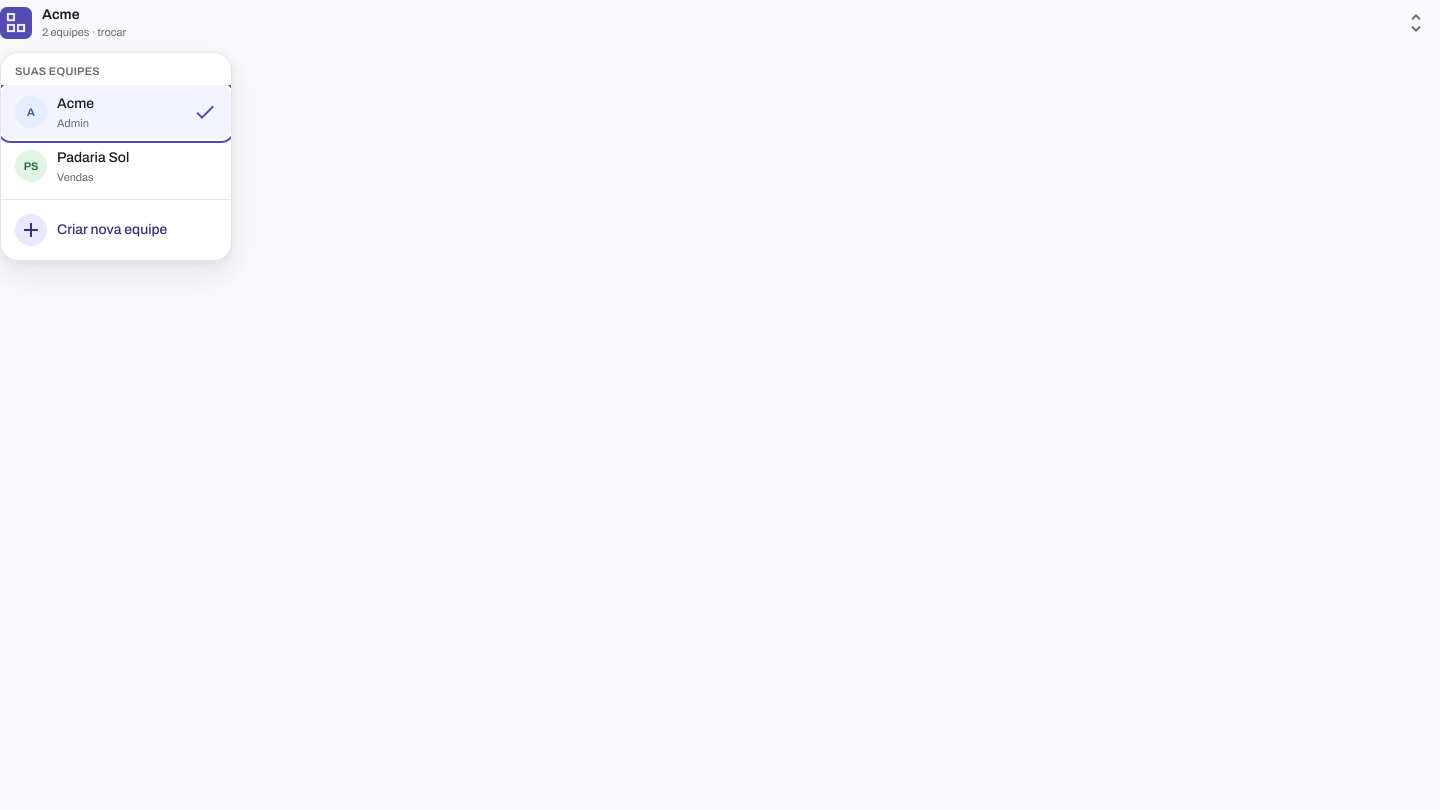
Test: SeletorDeEquipe › cria uma equipe nova pelo menu
The image size is (1440, 810).
Earlier steps of the test are not shown.
Click the menu item "Criar nova equipe" at (116, 230), box [1,206,231,254]
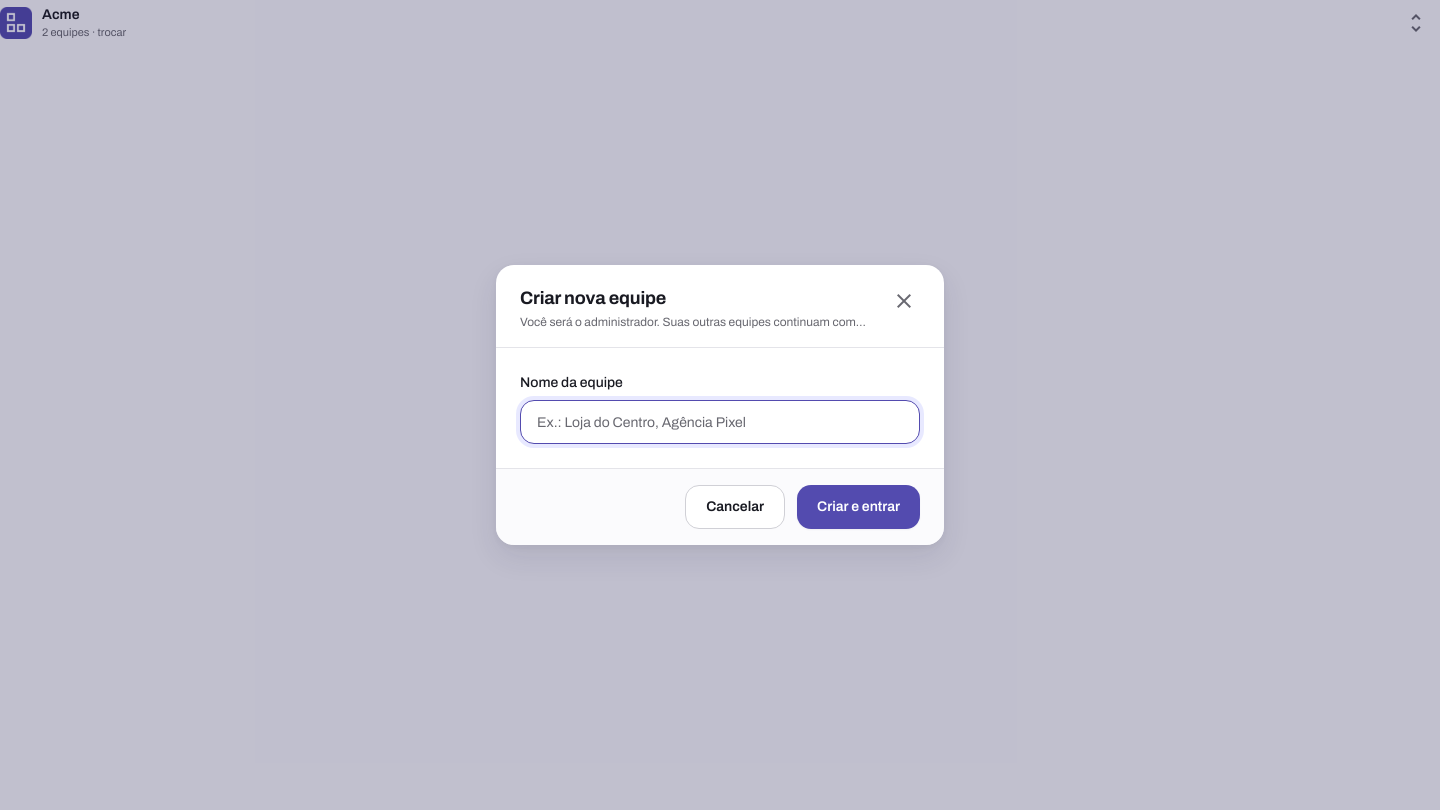
Type "Agência Pixel" into the field labelled "Nome da equipe" at (720, 422), box [520,400,920,444]
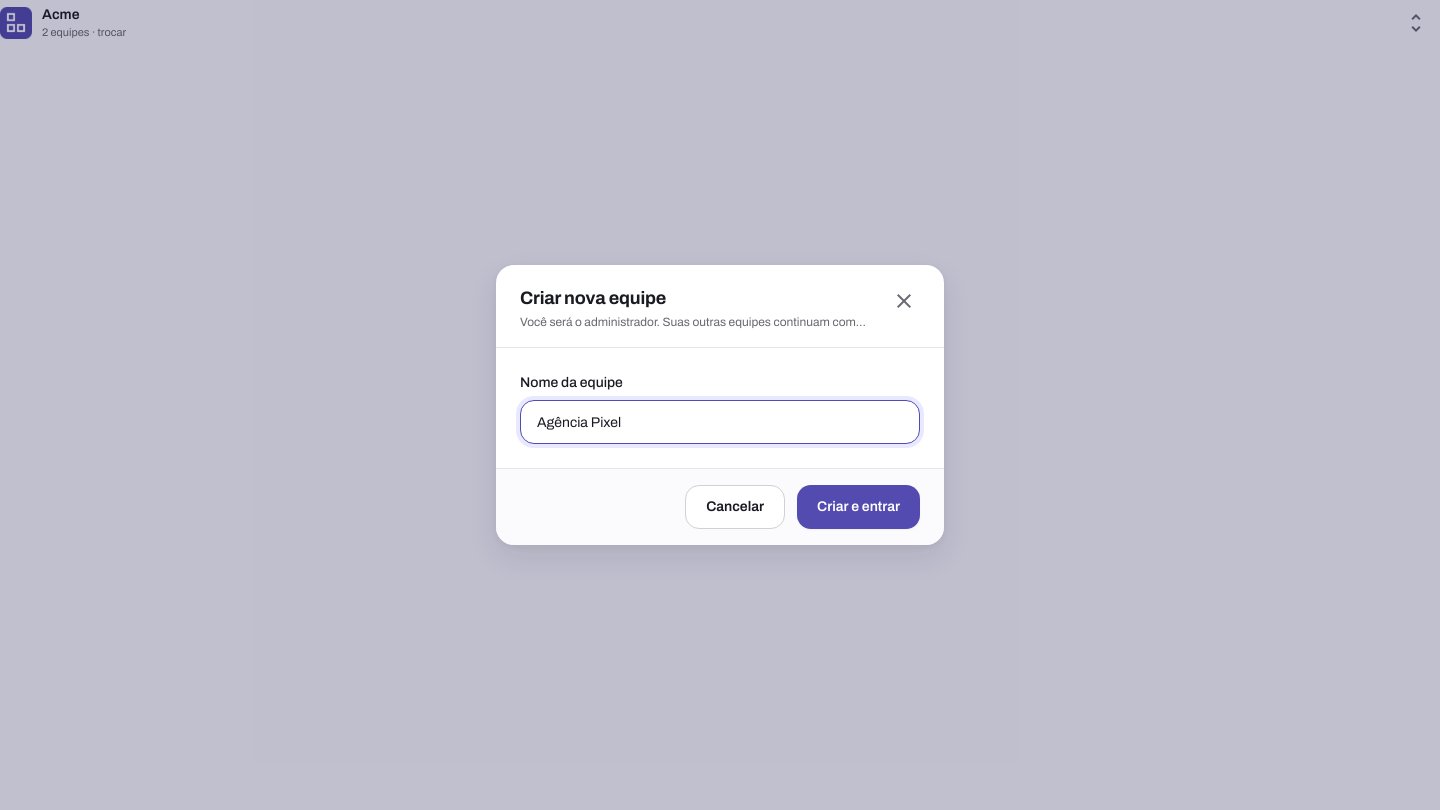
Click the button "Criar e entrar" at (859, 507), box [797,485,920,529]
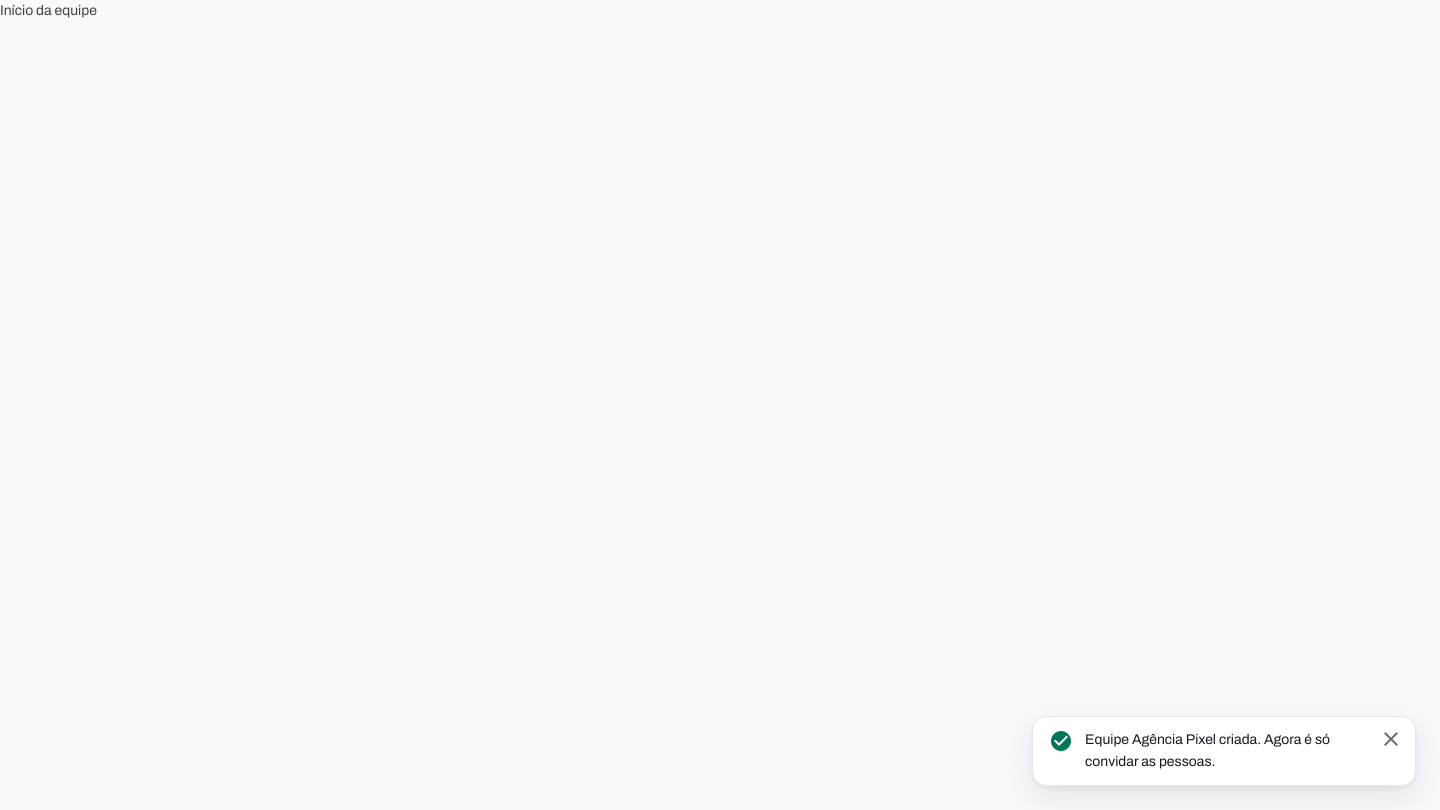
Now the text "Início da equipe" is shown, box [0,3,97,18]
